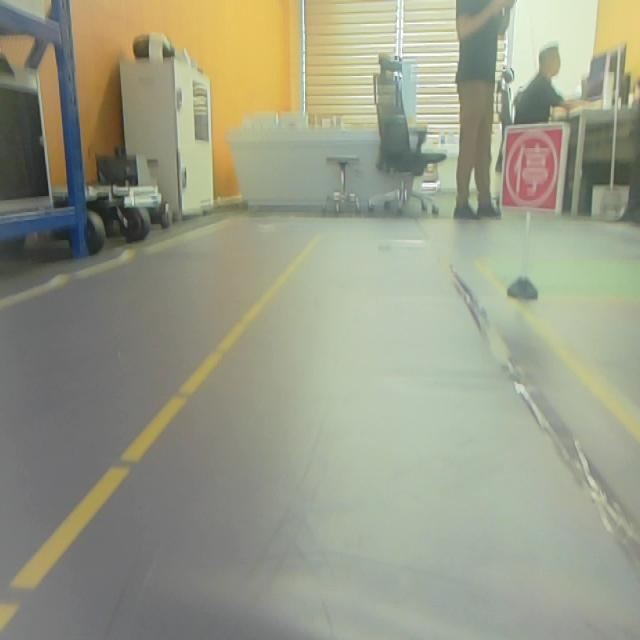left_lane: (0, 232, 319, 633)
right_lane: (477, 259, 640, 443)
